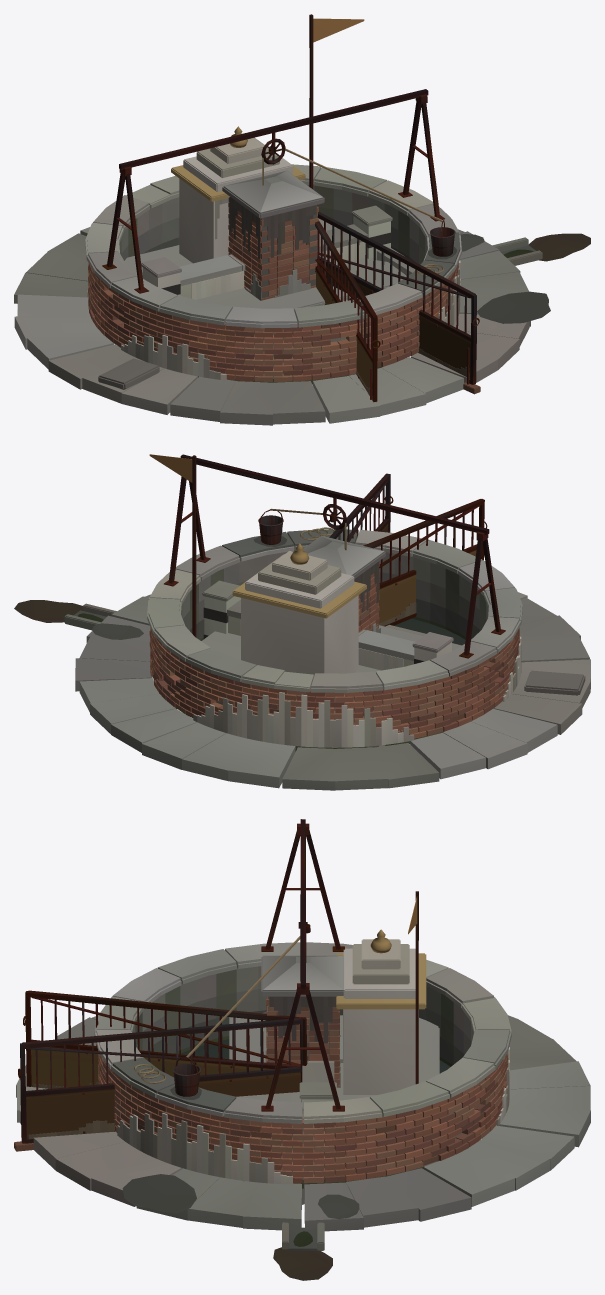
The model's file is field_props.glb.
3 views of the same model, one above another, from view 1: azimuth 30°, elevation 25°; view 2: azimuth 150°, elevation 25°; view 3: azimuth 270°, elevation 25° (orthographic). The views are drawn at different scales.
Visible parts, largest first — view 1: well_hb_main, field_shrine_hb_main, field_gate_hb_main, well_hb_metal, culvert_hb_main, field_gate_hb_metal, field_gate_b_hb_main, field_gate_b_hb_metal, field_gate_hb_wood, culvert_b_hb_main, field_shrine_hb_metal, field_gate_b_hb_wood; view 2: well_hb_main, field_shrine_hb_main, well_hb_metal, culvert_hb_main, field_gate_hb_main, field_gate_b_hb_metal, field_gate_hb_metal, culvert_b_hb_main, field_gate_b_hb_wood, field_gate_b_hb_main, field_shrine_hb_metal; view 3: well_hb_main, field_shrine_hb_main, field_gate_hb_metal, well_hb_metal, field_gate_b_hb_metal, field_gate_hb_main, field_gate_hb_wood, field_gate_b_hb_wood, field_gate_b_hb_main, culvert_hb_main, field_shrine_hb_metal.
Boxes of the visible parts, box(x1,y1,x2,y2) form: well_hb_main: box(14, 148, 590, 425); field_shrine_hb_main: box(124, 18, 406, 310); field_gate_hb_main: box(223, 170, 480, 394); well_hb_metal: box(102, 89, 455, 293); culvert_hb_main: box(141, 205, 415, 299); field_gate_hb_metal: box(317, 211, 479, 384); field_gate_b_hb_main: box(222, 176, 372, 399); field_gate_b_hb_metal: box(315, 220, 380, 402); field_gate_hb_wood: box(319, 265, 470, 379); culvert_b_hb_main: box(179, 224, 367, 298); field_shrine_hb_metal: box(309, 14, 313, 189); field_gate_b_hb_wood: box(316, 271, 372, 389); well_hb_main: box(14, 508, 590, 790); field_shrine_hb_main: box(149, 454, 461, 747); well_hb_metal: box(164, 454, 505, 658); culvert_hb_main: box(202, 580, 494, 751); field_gate_hb_main: box(303, 535, 385, 630); field_gate_b_hb_metal: box(363, 499, 487, 626); field_gate_hb_metal: box(329, 473, 393, 542); culvert_b_hb_main: box(227, 600, 415, 670); field_gate_b_hb_wood: box(378, 550, 476, 623); field_gate_b_hb_main: box(326, 541, 416, 633); field_shrine_hb_metal: box(192, 455, 196, 637); well_hb_main: box(16, 936, 590, 1280); field_shrine_hb_main: box(229, 897, 439, 1170); field_gate_hb_metal: box(18, 1017, 306, 1143); well_hb_metal: box(173, 819, 450, 1111); field_gate_b_hb_metal: box(23, 990, 307, 1086); field_gate_hb_main: box(14, 955, 343, 1151); field_gate_hb_wood: box(26, 1072, 300, 1139); field_gate_b_hb_wood: box(31, 1047, 271, 1087); field_gate_b_hb_main: box(33, 957, 340, 1088); culvert_hb_main: box(242, 1012, 336, 1204); field_shrine_hb_metal: box(415, 891, 418, 1084).
Bounding box in the file's own units: 7.78 × 4.08 × 6.48.
